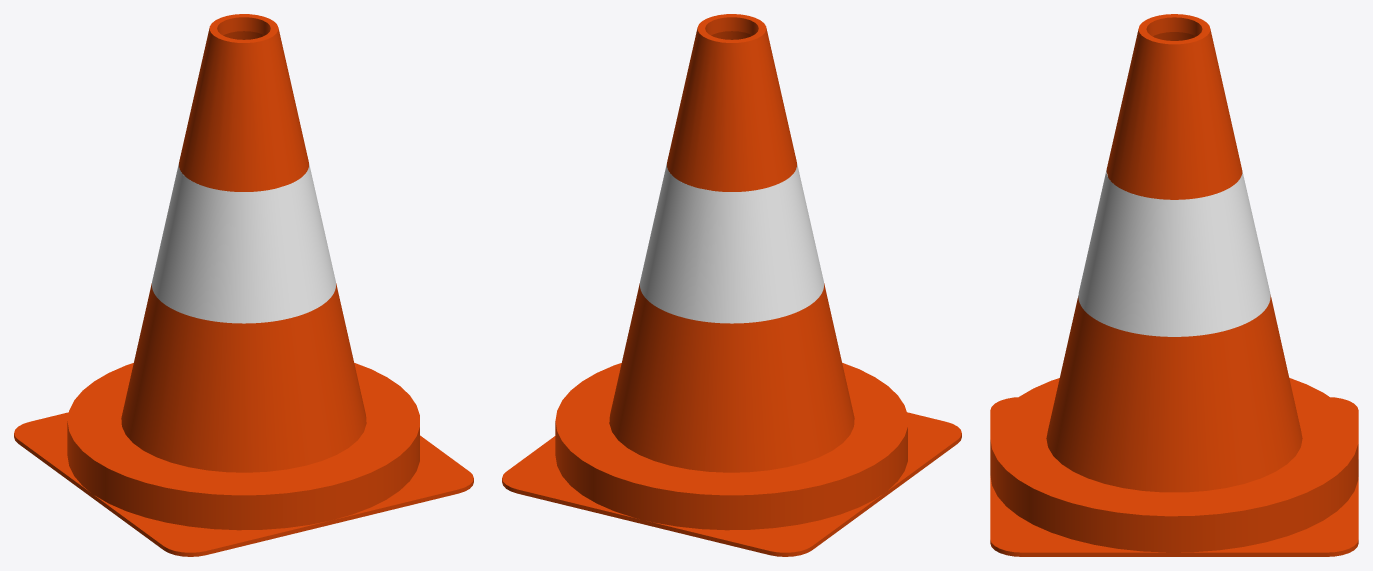
The model's file is orangeCone.fbx.
The picture shows the model from 3 angles, left to right: view 1: azimuth 30°, elevation 25°; view 2: azimuth 150°, elevation 25°; view 3: azimuth 270°, elevation 25°; orthographic projection. The views are drawn at different scales.
Visible parts, largest first — view 1: color, color_2; view 2: color, color_2; view 3: color, color_2.
Part boxes in pixels (box(x1,y1,x2,y2)): color: box(14, 14, 473, 556); color_2: box(152, 163, 335, 323); color: box(502, 14, 961, 556); color_2: box(640, 163, 823, 323); color: box(990, 14, 1358, 556); color_2: box(1078, 170, 1270, 336).
Size of the model in its own units: 23 by 31 by 23.
